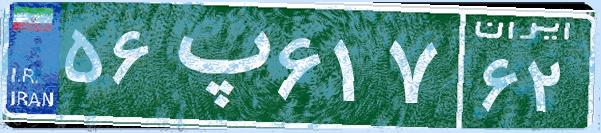1: (330, 28, 385, 110)
2: (525, 38, 570, 115)
5: (57, 26, 110, 107)
6: (273, 28, 330, 110), (475, 38, 525, 113), (110, 28, 158, 105)
7: (385, 28, 445, 110)
پ: (158, 15, 273, 115)
